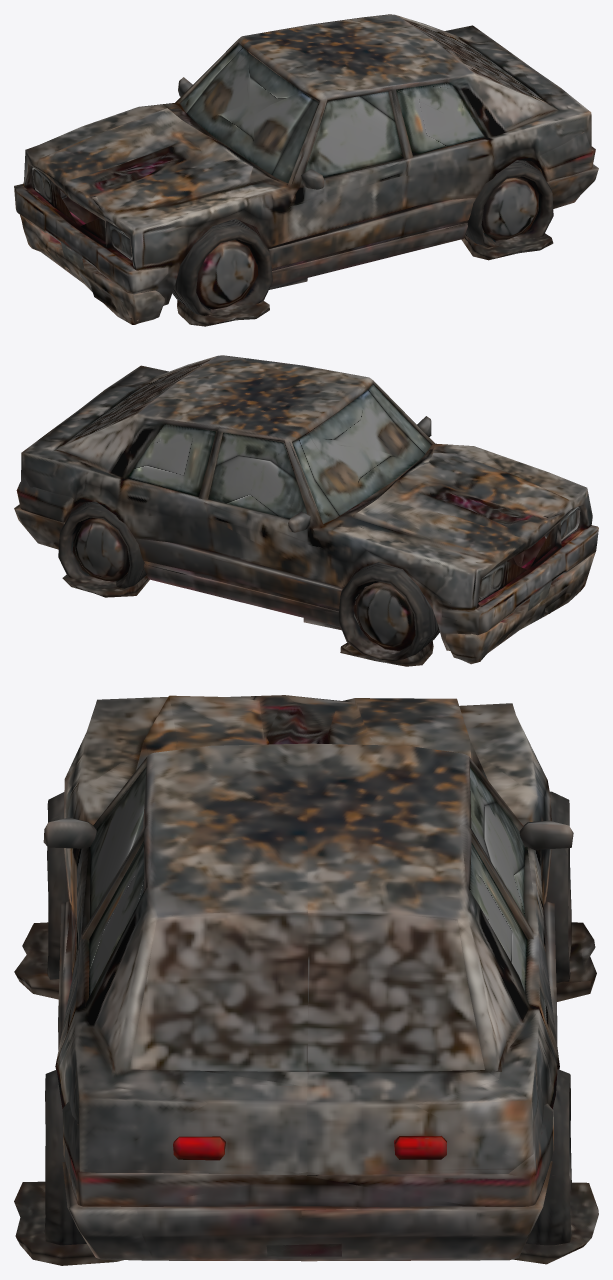
The model's file is car.glb.
3 renders of one model, top to bottom at view 1: azimuth 30°, elevation 25°; view 2: azimuth 150°, elevation 25°; view 3: azimuth 270°, elevation 25°, orthographic. The views are drawn at different scales.
Parts seen in each view (by area): view 1: geometry_0; view 2: geometry_0; view 3: geometry_0.
Part boxes in pixels (<box>): geometry_0: <box>14,14,598,326</box>; geometry_0: <box>14,355,598,666</box>; geometry_0: <box>14,695,598,1265</box>.
Size of the model in its own units: 1 by 0.3648 by 0.5736.
Materials: 1 (1 with a texture image).
